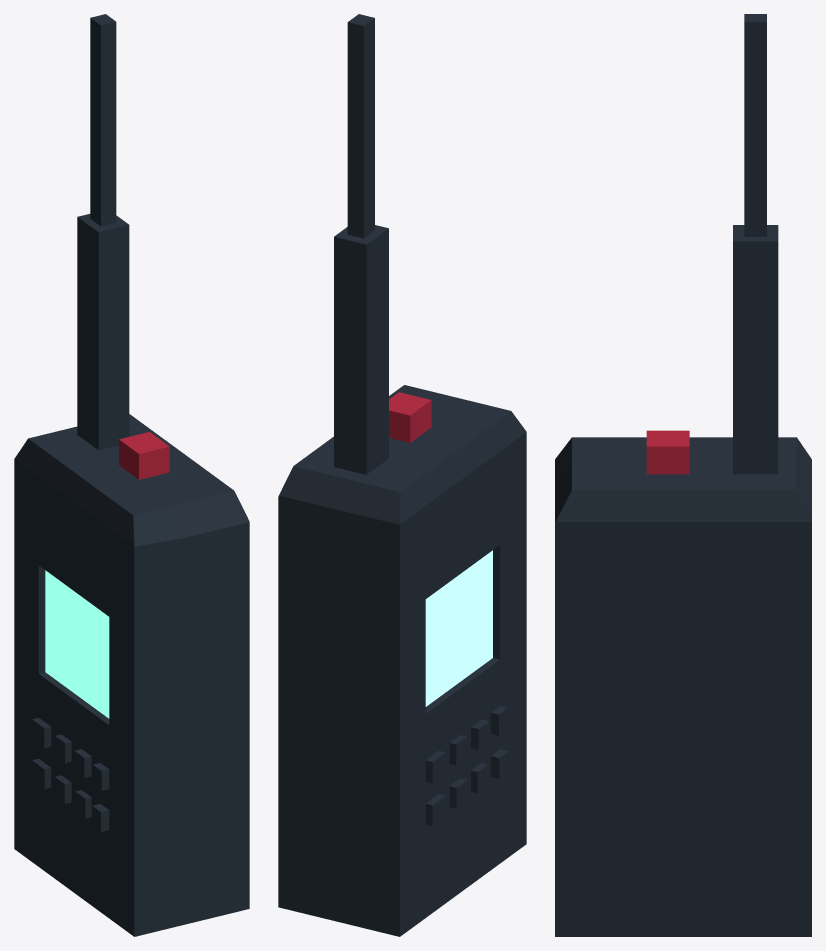
The model's file is radio.glb.
3 views of the same model, side by side, from view 1: azimuth 30°, elevation 25°; view 2: azimuth 150°, elevation 25°; view 3: azimuth 270°, elevation 25° (orthographic). The views are drawn at different scales.
Parts seen in each view (by area): view 1: Cube; view 2: Cube; view 3: Cube.
Boxes of the visible parts, x1,y1,x2,y2 form: Cube: (14, 14, 249, 936); Cube: (278, 14, 526, 936); Cube: (555, 14, 811, 936).
Size of the model in its own units: 1.19 by 7.66 by 2.
